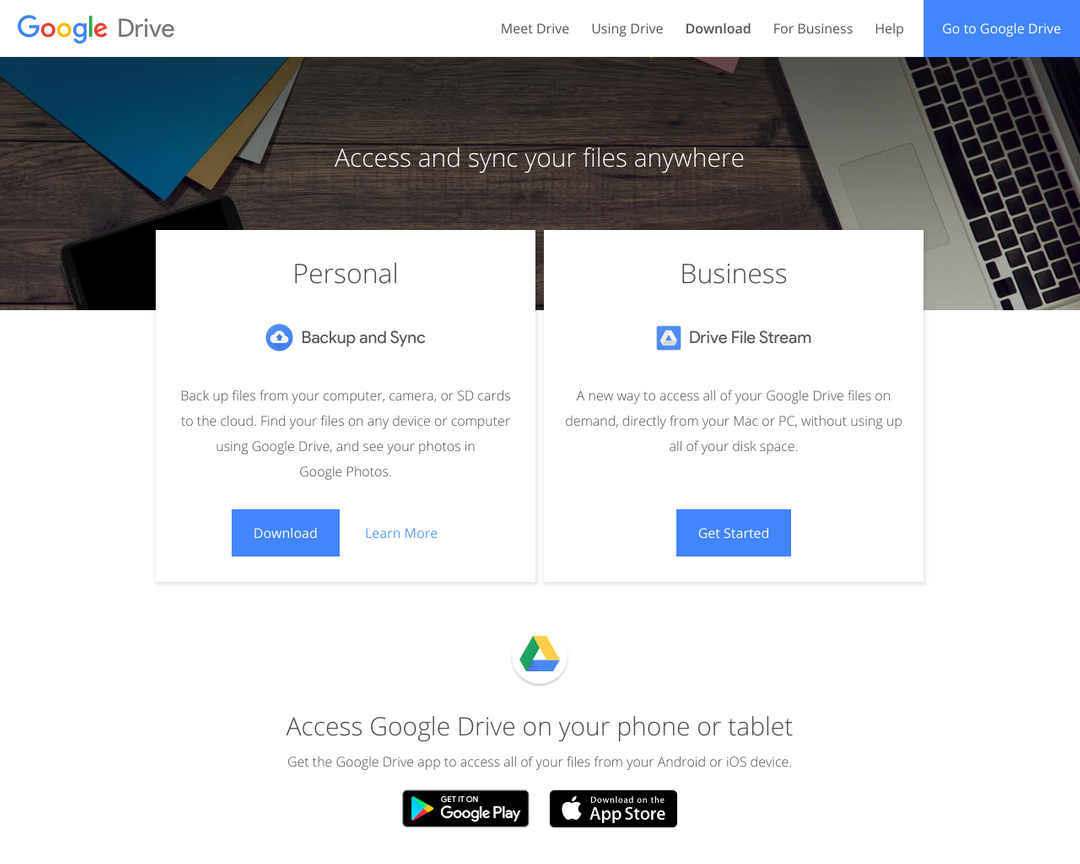Google: (11, 8, 110, 45), (436, 801, 494, 831)
